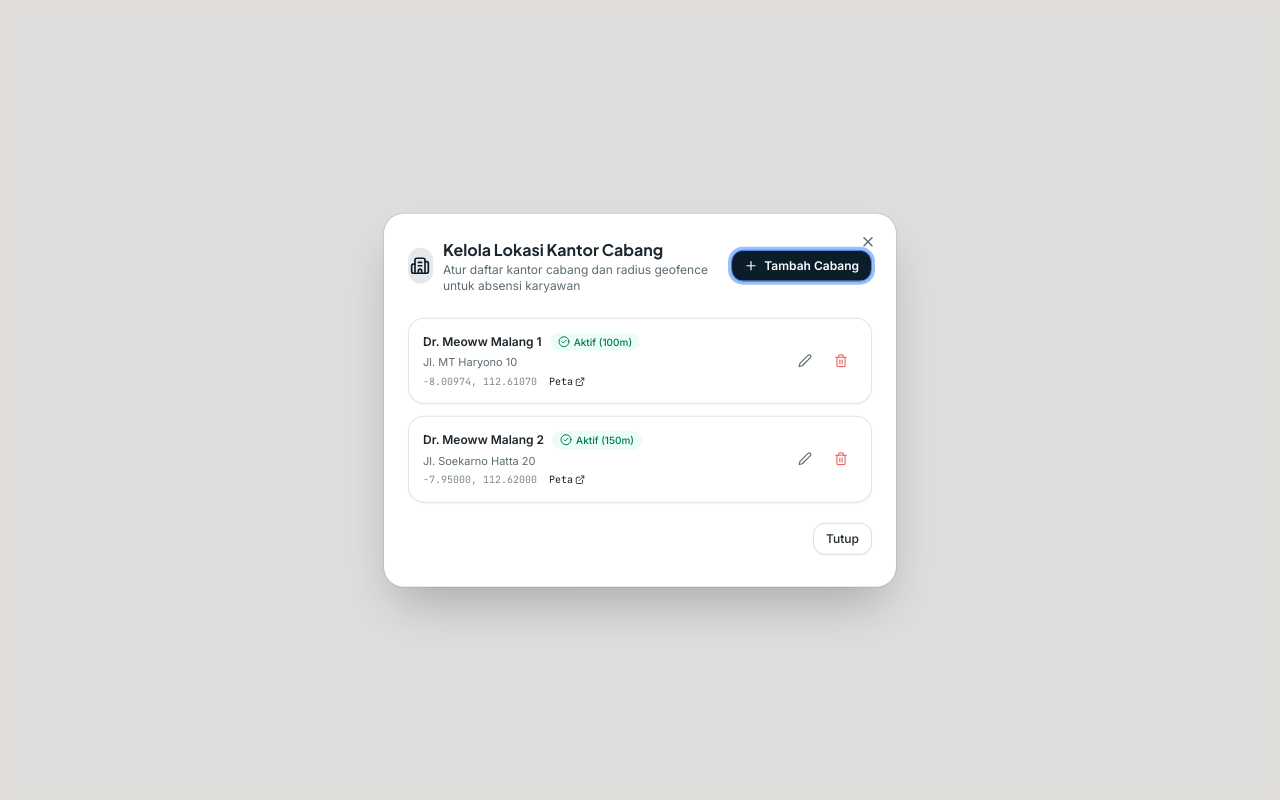
BranchManagementModal Component › opens add form when 'Tambah Cabang' button is clicked
What coordinates should you click on to do the following:
click the button "Tambah Cabang"
I would click on:
 (802, 266)
Its box is [731, 250, 872, 282].
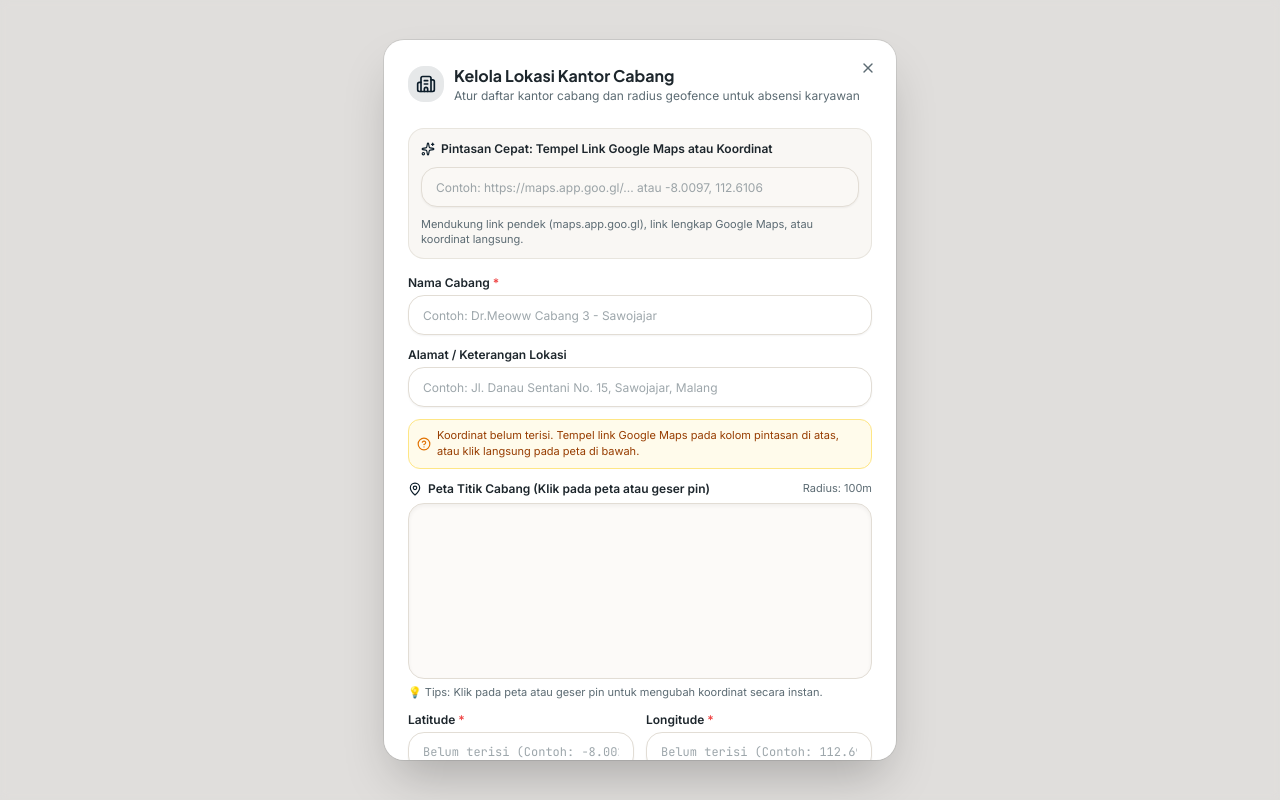
Check: the text "Pintasan Cepat: Tempel Link Google Maps atau Koordinat" is shown, box [421, 141, 773, 157]
Check: the field labelled "Nama Cabang *" is shown, box [408, 295, 872, 335]
Check: the field labelled "Latitude *" is shown, box [408, 732, 634, 760]
